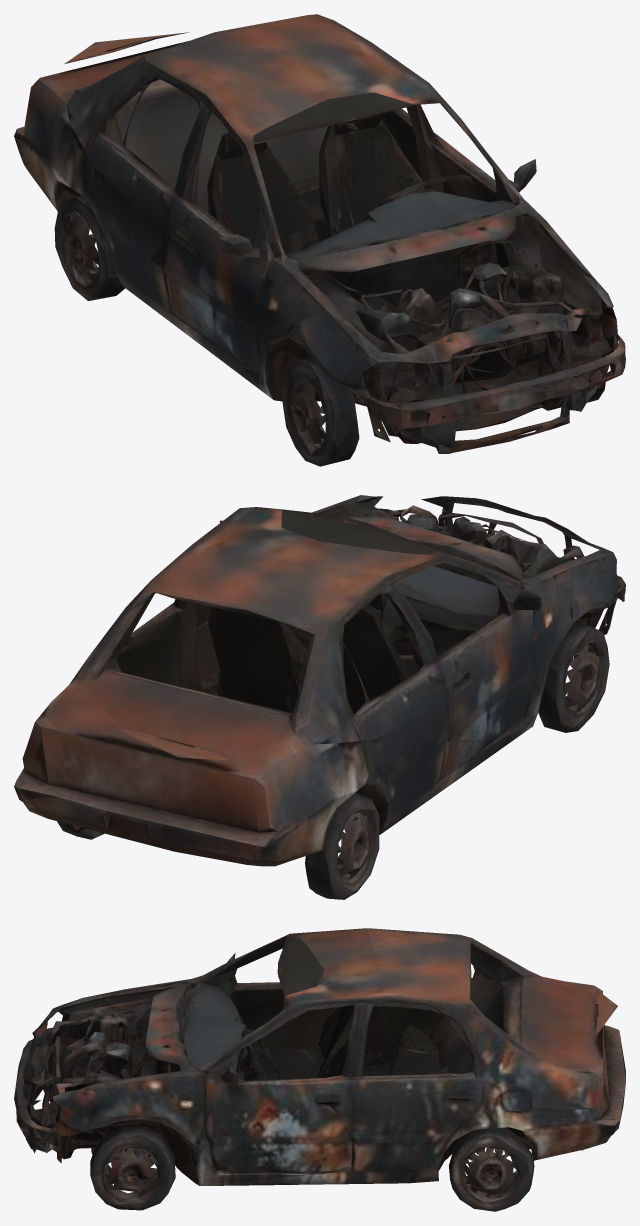
The model's file is car_wreck.glb.
3 views of the same model, one above another, from view 1: azimuth 30°, elevation 25°; view 2: azimuth 150°, elevation 25°; view 3: azimuth 270°, elevation 25° (orthographic). The views are drawn at different scales.
Parts seen in each view (by area): view 1: car_wreck; view 2: car_wreck; view 3: car_wreck.
Part boxes in pixels (left/top/right/bottom): car_wreck: left=14, top=14, right=625, bottom=466; car_wreck: left=14, top=495, right=625, bottom=899; car_wreck: left=14, top=928, right=625, bottom=1211.
Bounding box in the file's own units: 2.08 × 1.57 × 4.4.
Materials: 1 (1 with a texture image).
